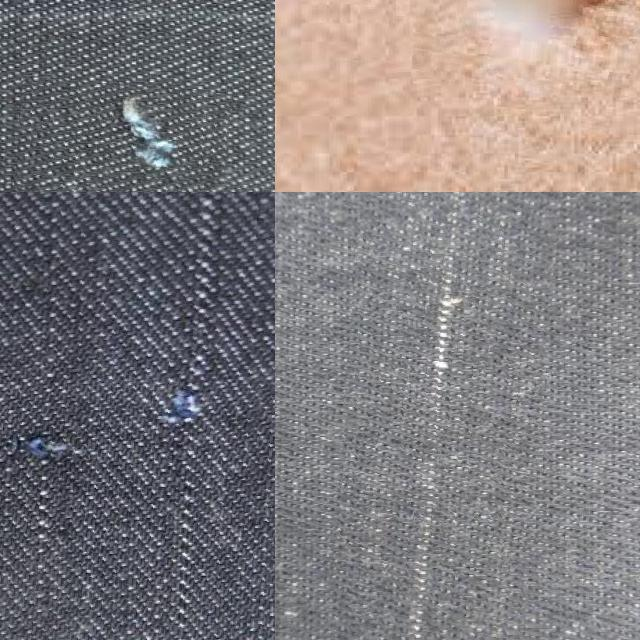Thread_other: (0, 192, 275, 640), (329, 192, 555, 640), (13, 80, 228, 192)
seam: (414, 0, 640, 91)
